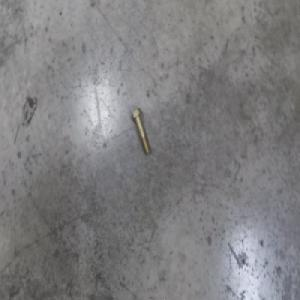Bolt: (129, 108, 149, 155)
